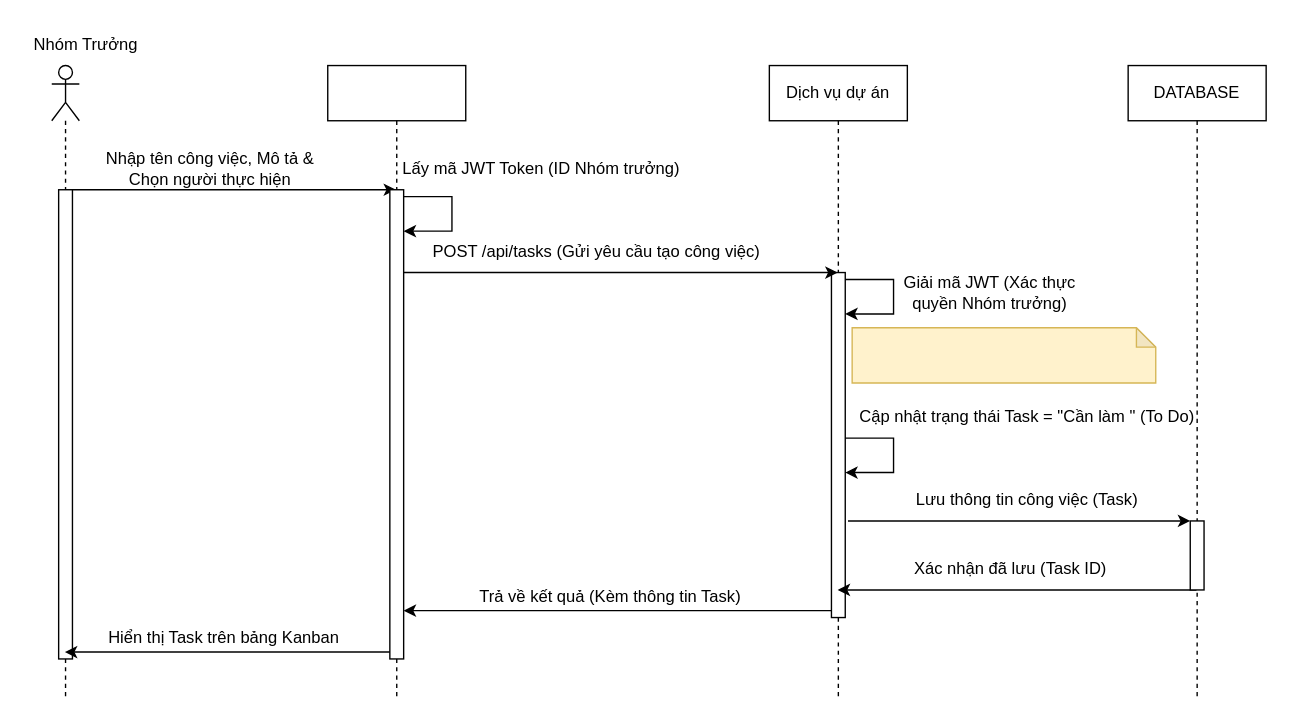
This 1290x725 diagram has some shape labels left out. Each missing label, with the box of its shape:
Giao diện: (326, 64, 466, 700)
Hệ thống kiểm tra xem người tạo có thuộc dự án này không: (851, 326, 1156, 383)
